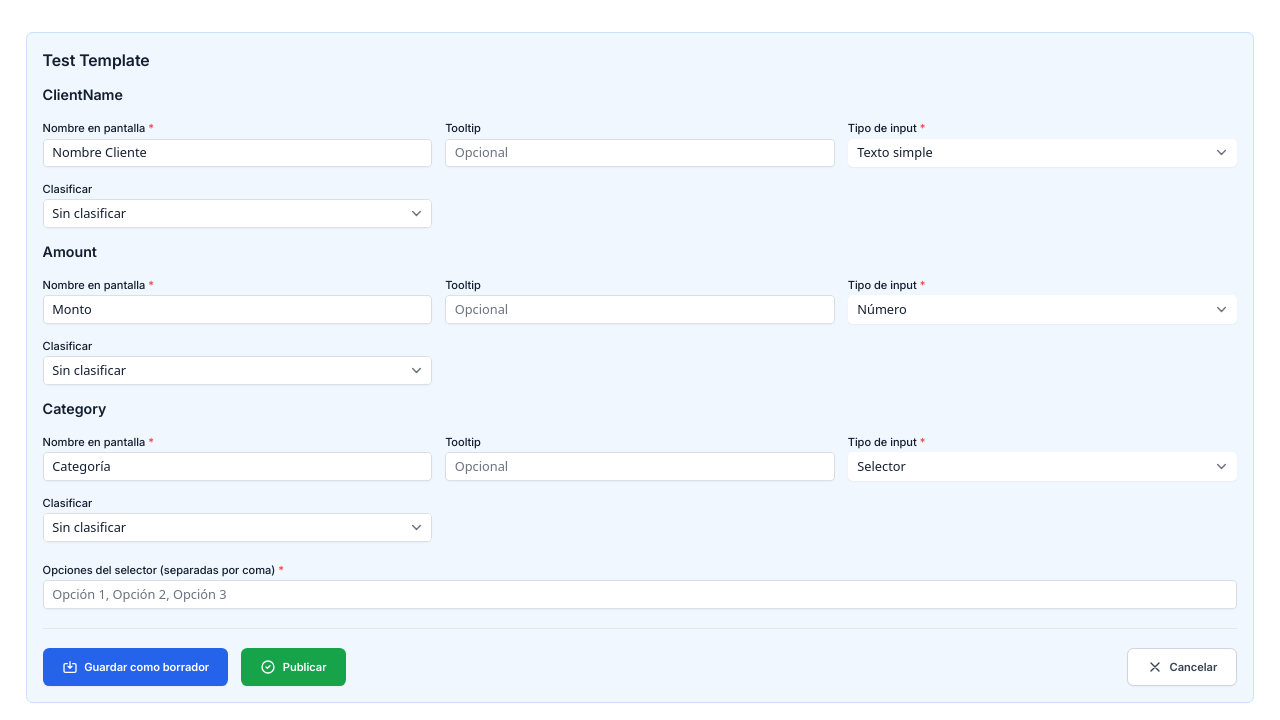
Test case: DocumentVariablesConfig.vue › publish with select field but no options shows validation error
Click the button "Publicar". click: (293, 667)
box: [241,648,346,686]
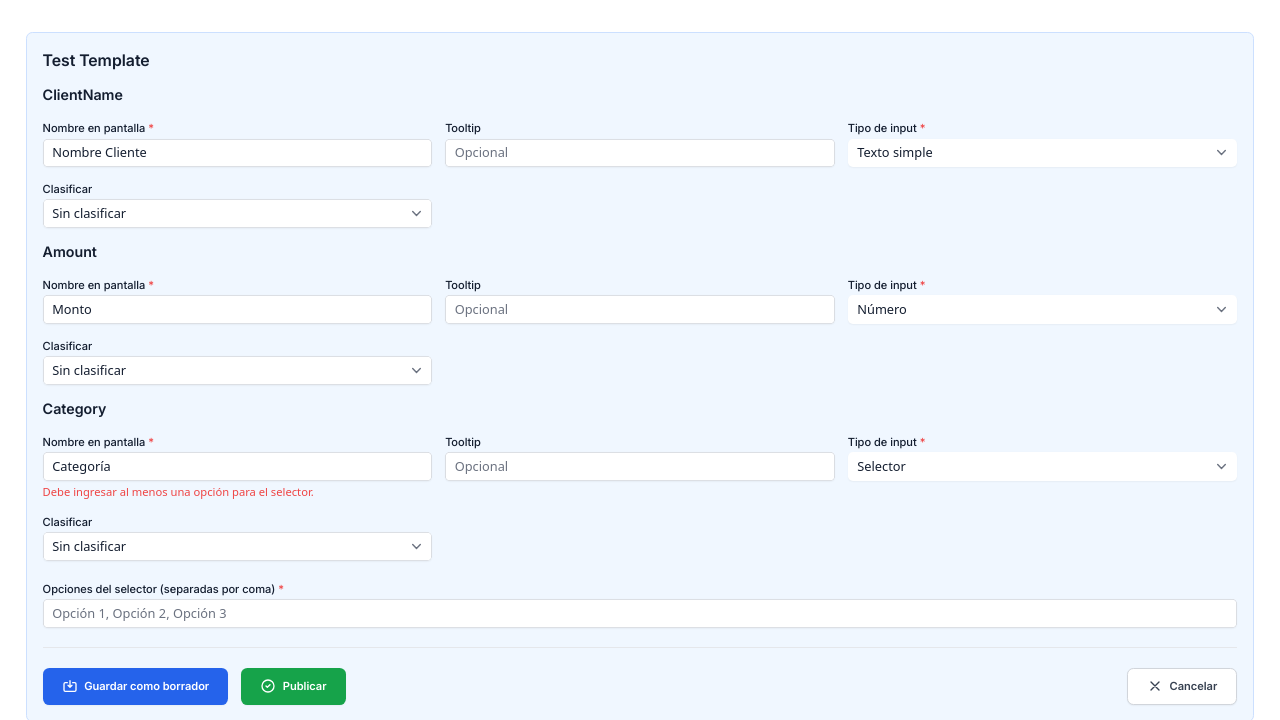
Expected: the text "al menos una opción" is shown, [43,484,314,499]
